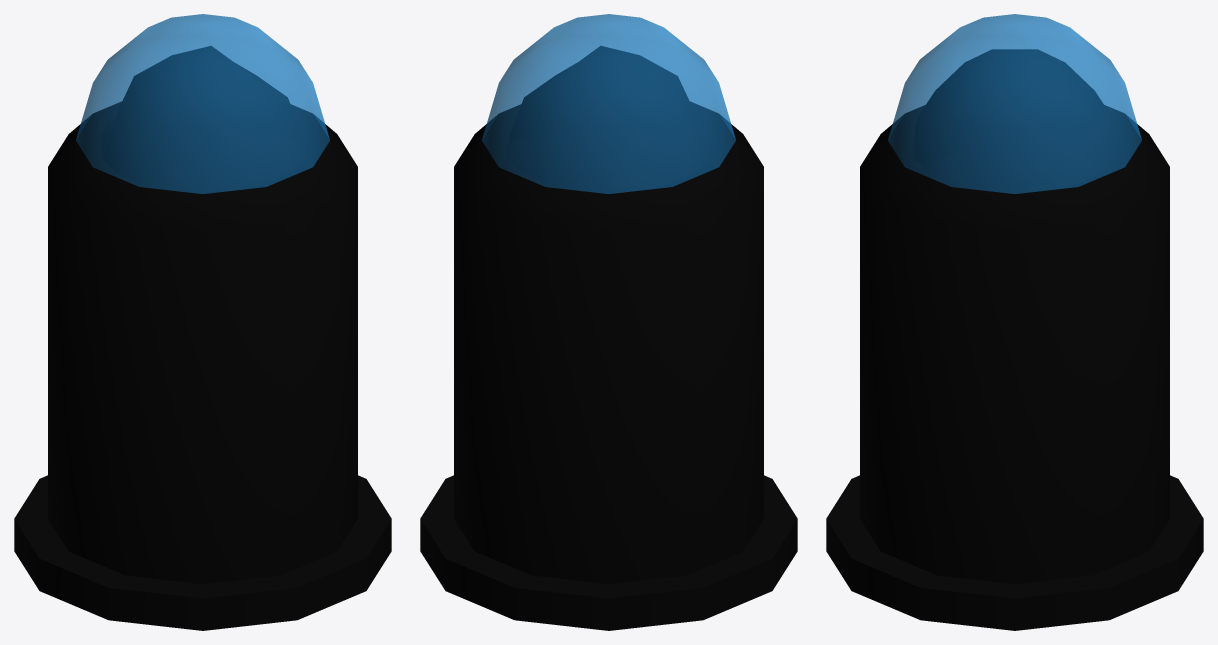
Rendered from obj_cannon_ratshot.fbx.
The picture shows the model from 3 angles, left to right: view 1: azimuth 30°, elevation 25°; view 2: azimuth 150°, elevation 25°; view 3: azimuth 270°, elevation 25°; orthographic projection.
Visible parts, largest first — view 1: obj_cannon_ratshot_lp; view 2: obj_cannon_ratshot_lp; view 3: obj_cannon_ratshot_lp.
Part boxes in pixels (x1,y1,x2,y2): obj_cannon_ratshot_lp: (14, 14, 391, 630); obj_cannon_ratshot_lp: (420, 14, 797, 630); obj_cannon_ratshot_lp: (826, 14, 1203, 630).
Bounding box in the file's own units: 1.95 × 3 × 1.95.
